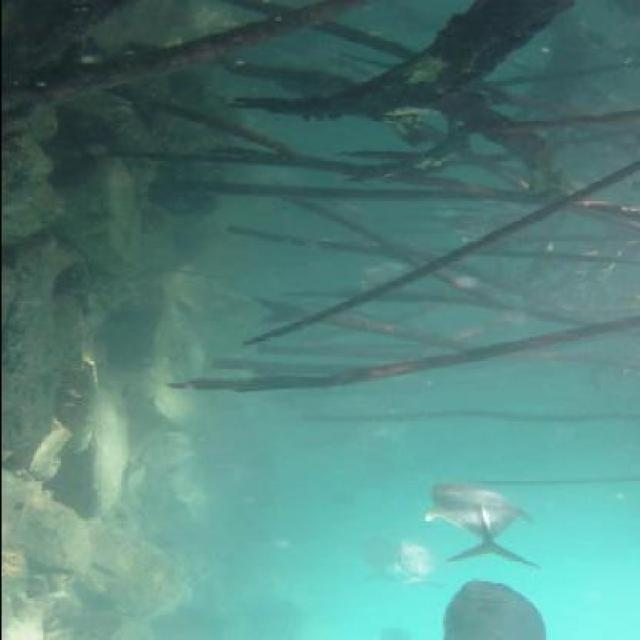Caranx_sexfasciatus_juvenile: (417, 480, 548, 568), (435, 581, 552, 640), (382, 534, 436, 594), (352, 525, 398, 593), (366, 623, 416, 640)
